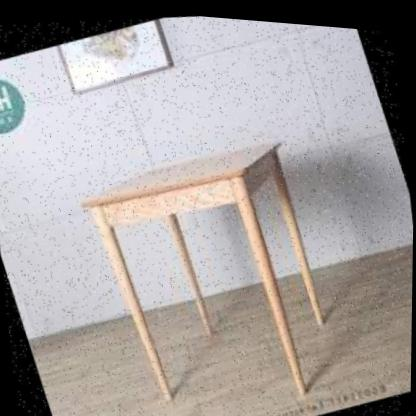Table: (64, 92, 379, 416)
